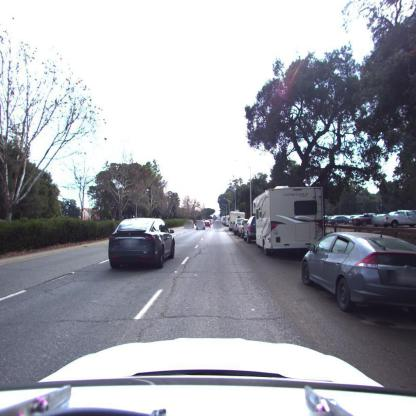car: (300, 233, 416, 321), (108, 218, 176, 270), (380, 210, 416, 228), (326, 214, 352, 226), (348, 213, 373, 225), (241, 218, 254, 241), (234, 218, 249, 237), (246, 217, 256, 242), (195, 220, 206, 230), (204, 220, 212, 227)
truck: (254, 186, 326, 256), (226, 209, 244, 233), (220, 215, 228, 225)
